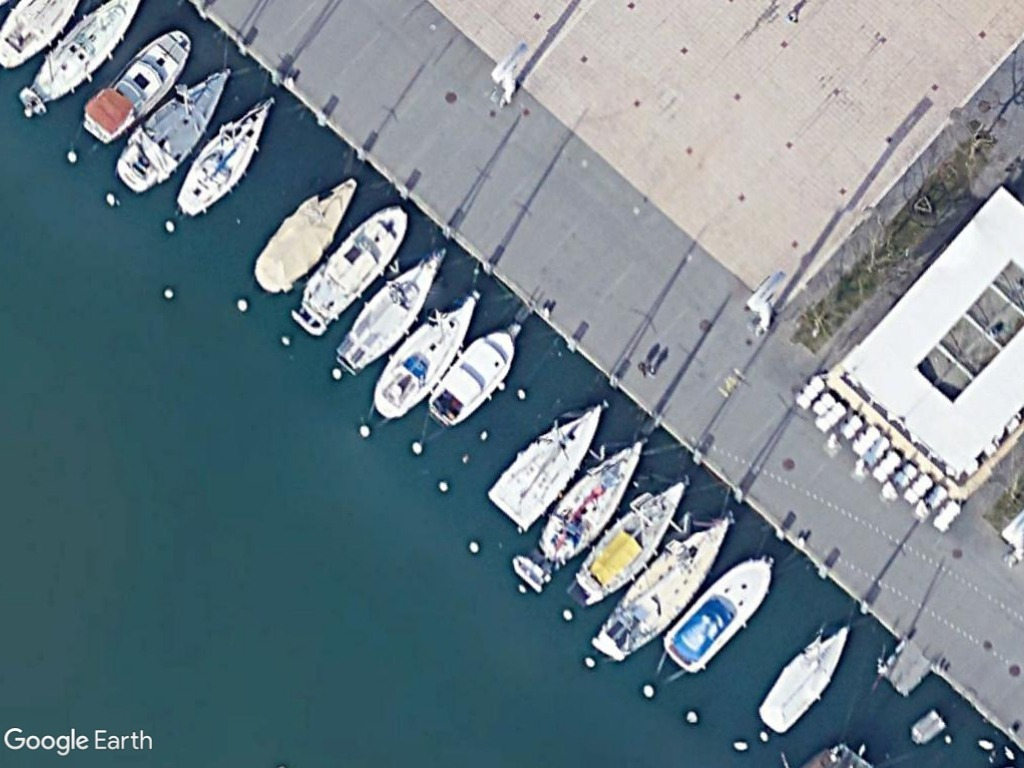boat: (590, 514, 735, 663), (487, 395, 607, 534), (114, 64, 236, 194), (370, 289, 485, 425), (290, 203, 409, 334), (570, 474, 689, 605), (334, 245, 449, 377), (538, 436, 650, 567), (169, 92, 281, 219), (75, 25, 193, 143), (248, 173, 358, 299), (660, 556, 775, 673), (754, 621, 852, 739), (425, 327, 520, 427), (508, 554, 551, 593)
